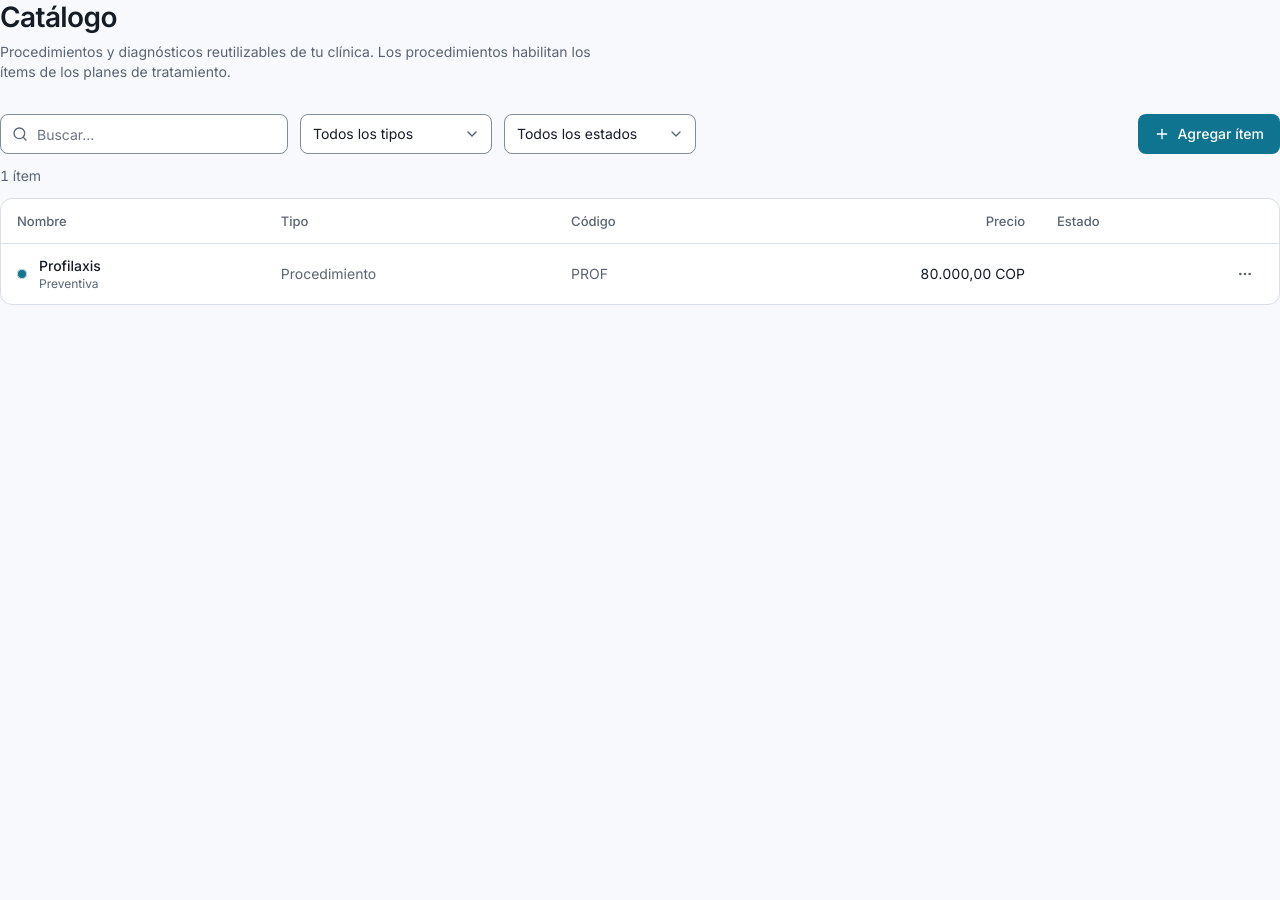
Test: CatalogView › muestra el error del backend tal cual cuando falla la edición
Expected: the table named "catálogo" is shown, x1=1 y1=199 x2=1279 y2=304
Click the button named "acciones de profilaxis": (1245, 274) x1=1227 y1=256 x2=1263 y2=292
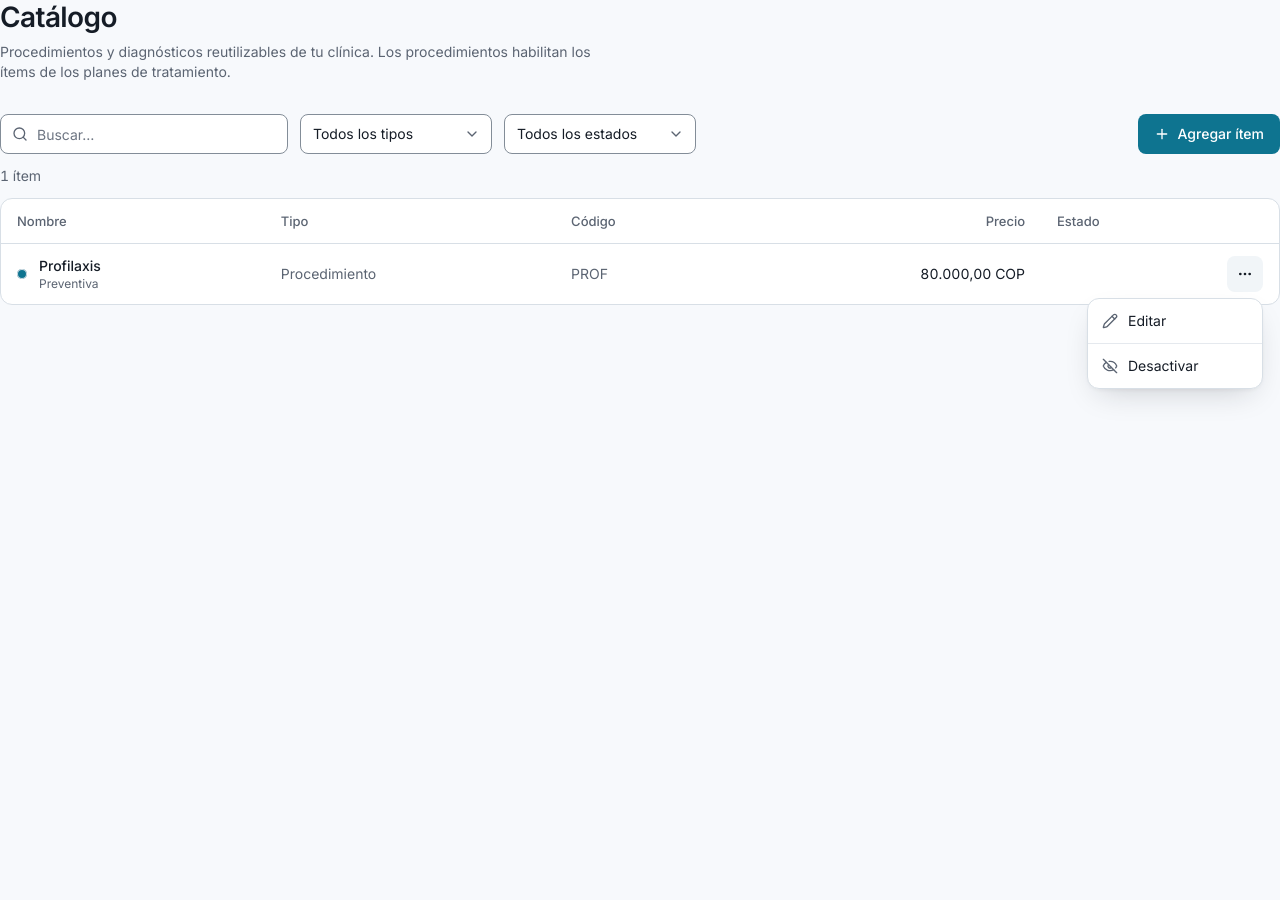
Click the menu item "Editar": (1134, 320) x1=1102 y1=312 x2=1166 y2=329
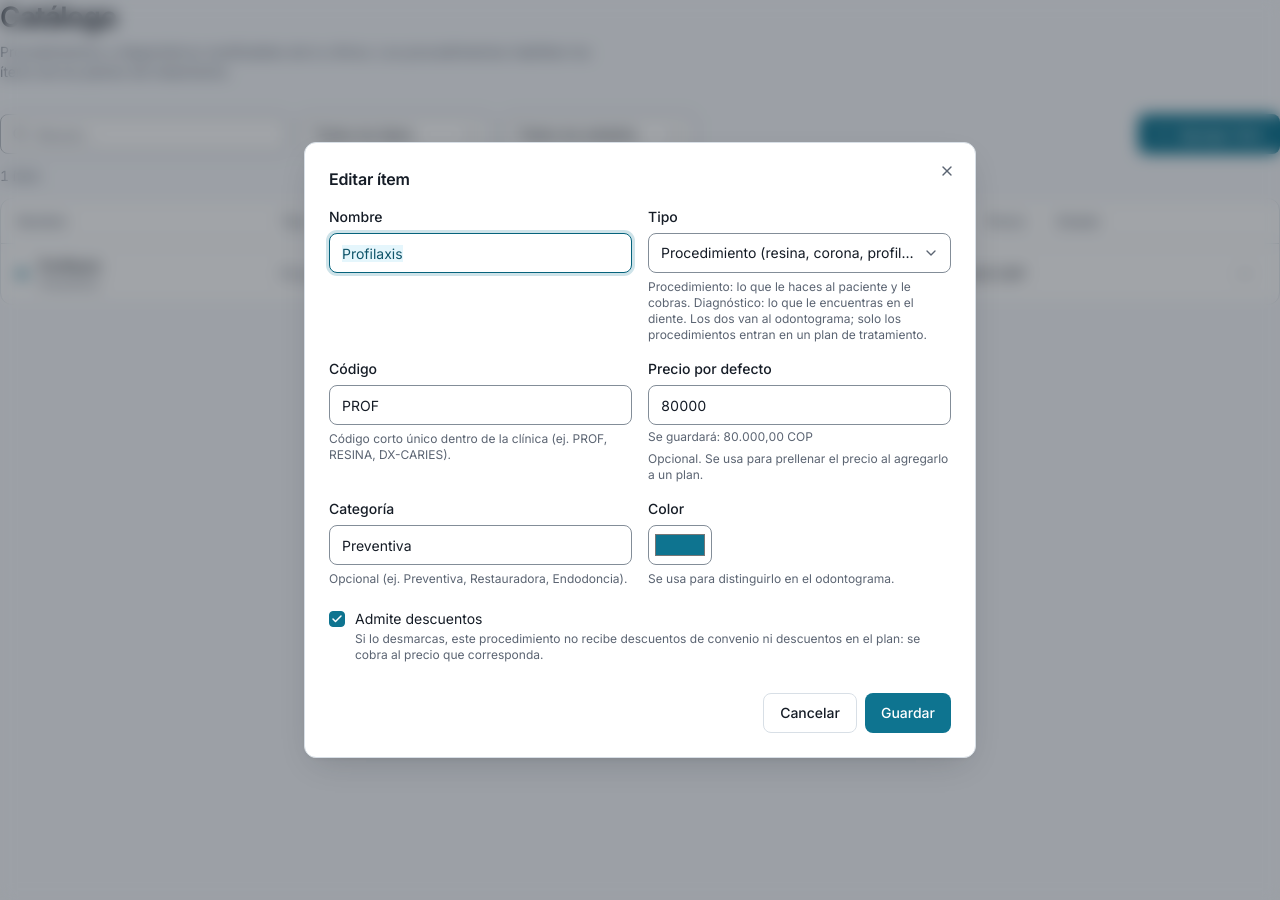
Click the button "Guardar": (908, 713) x1=865 y1=693 x2=951 y2=733
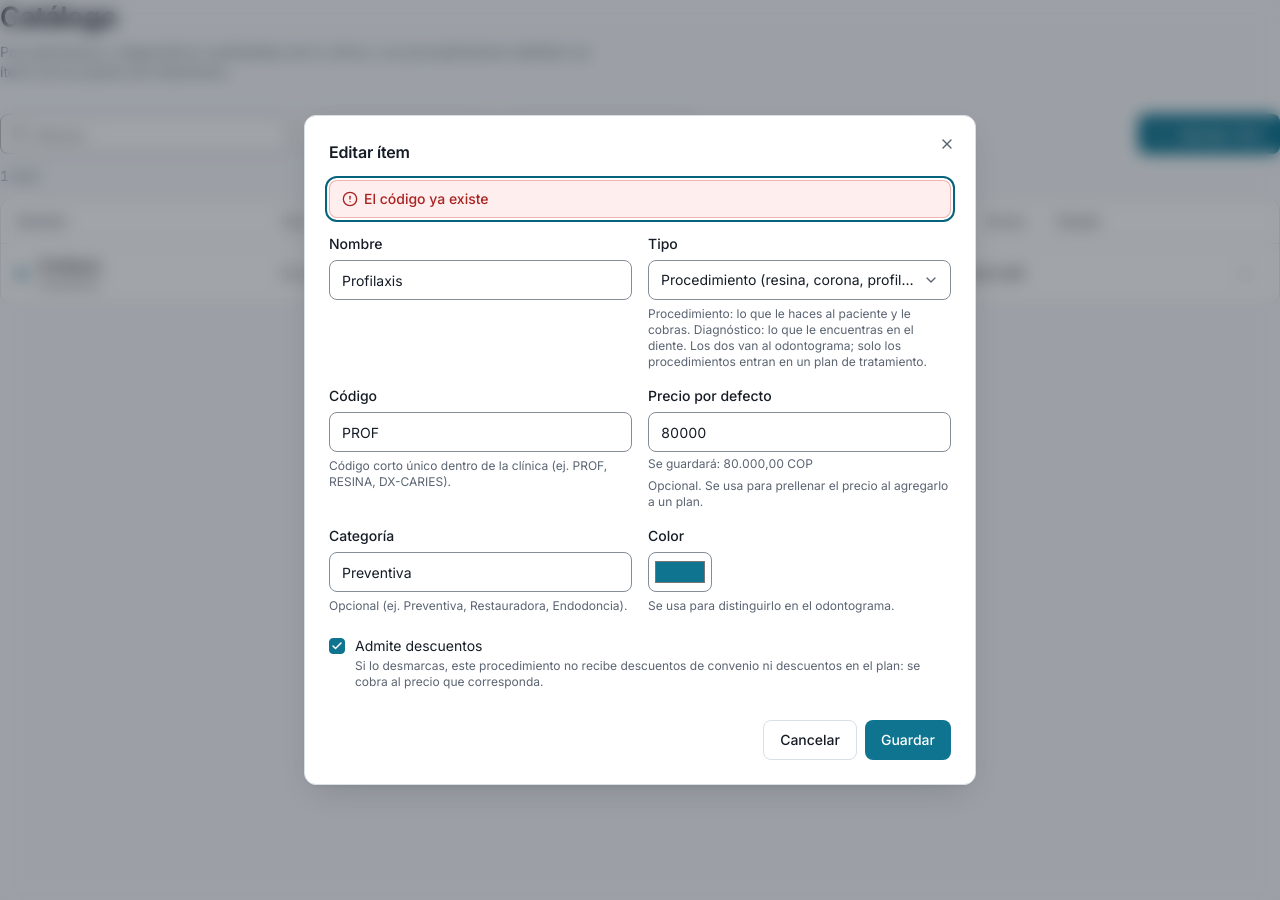
Expected: the message reads "El código ya existe", x1=364 y1=190 x2=489 y2=207
